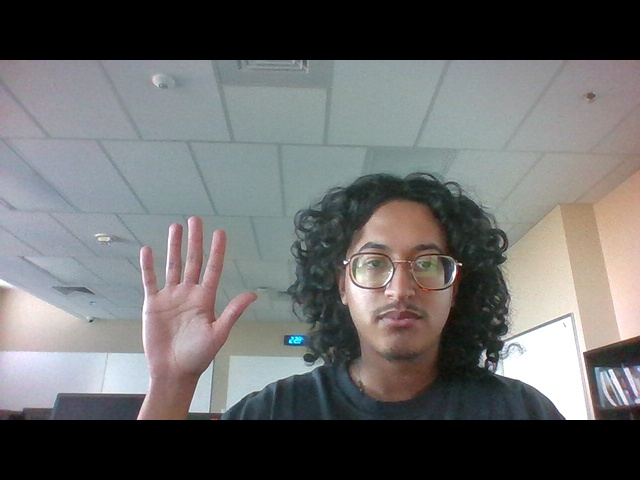hello: (128, 210, 263, 382)
